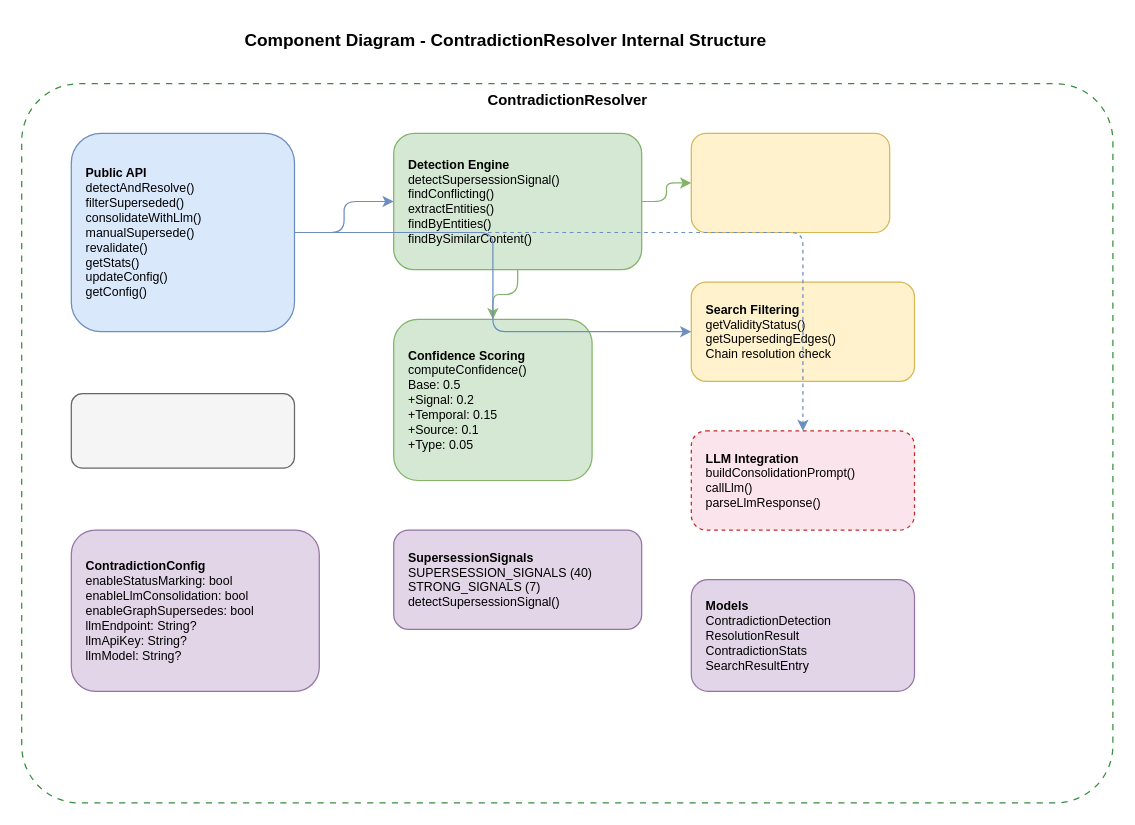
Some shapes in this 1135 by 825 pixel diagram are drawn without their labels. The centre of each missing label's shape, as x and y in pixels:
"Resolution Actions markSuperseded() addSupersedesEdge() logResolution()" belongs at (x=790, y=182).
"Schema Management ensureSchema() (idempotent ALTER TABLE)" belongs at (x=182, y=430).
